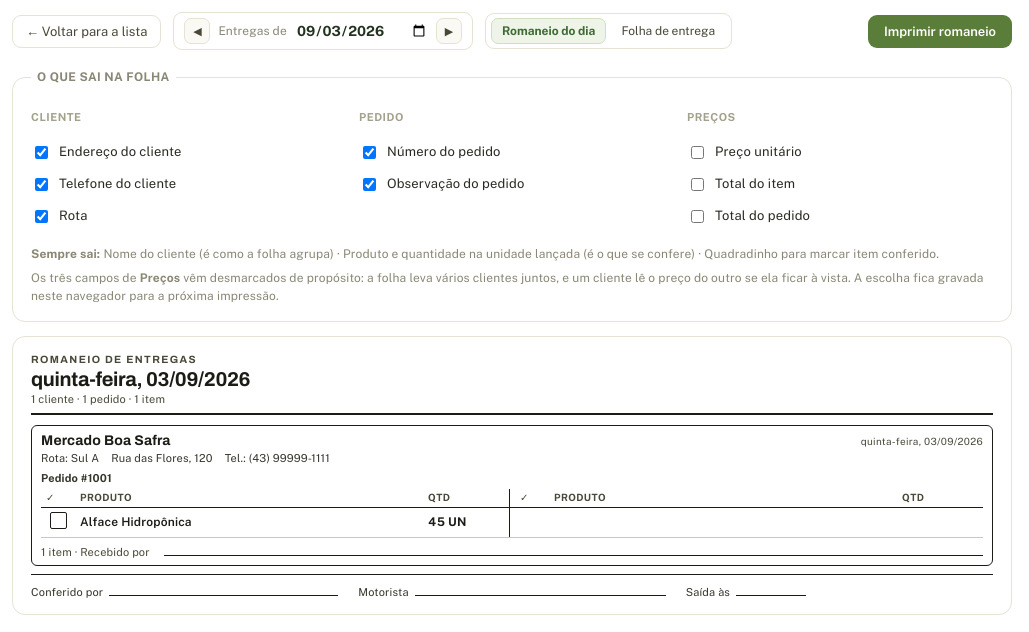
RomaneioEntregas — a seleção por dia › data apagada não vira requisição nem folha — pede um dia, sem erro
This screenshot has width=1029, height=632.
Expected: the text "Mercado Boa Safra" is shown, [41,432,171,450]
Clear the date field labelled "Entregas de": {"x": 362, "y": 31} [295,22,428,40]
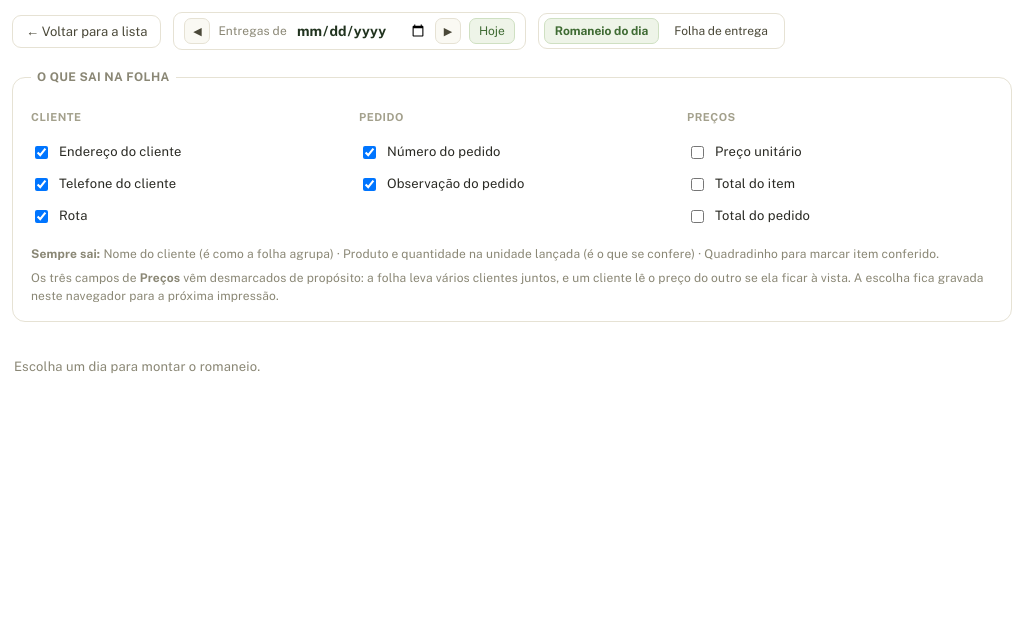
Expected: the text "Escolha um dia para montar o romaneio." is shown, [14,359,260,374]
Expected: the element with class "folha" is gone
